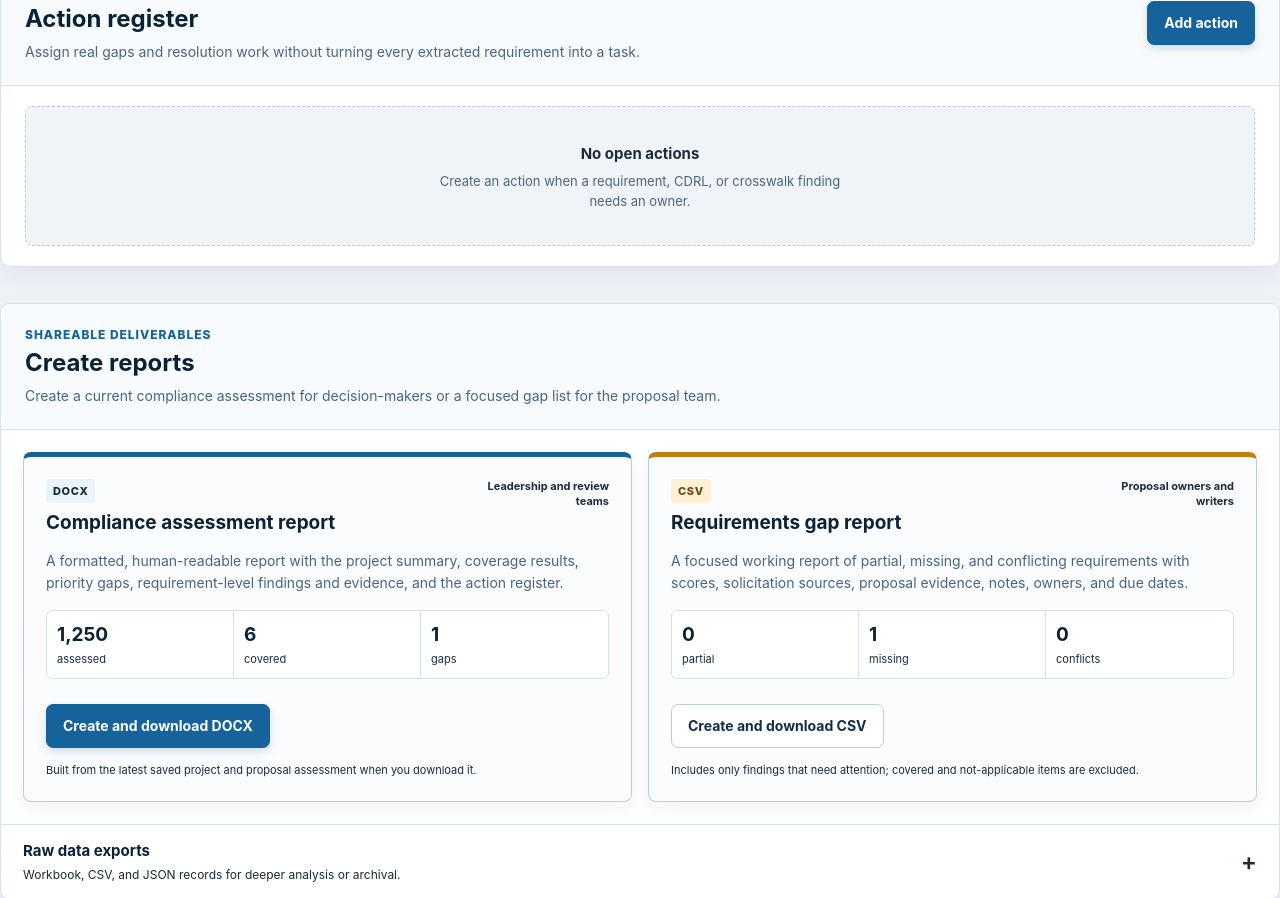
Scenario: ReportsWorkspace report creation › reports generation errors and allows a retry
The width and height of the screenshot is (1280, 898).
(page scrolled)
Step 1. Click the button "Create and download CSV" → (777, 726), box [671,704,884,748]
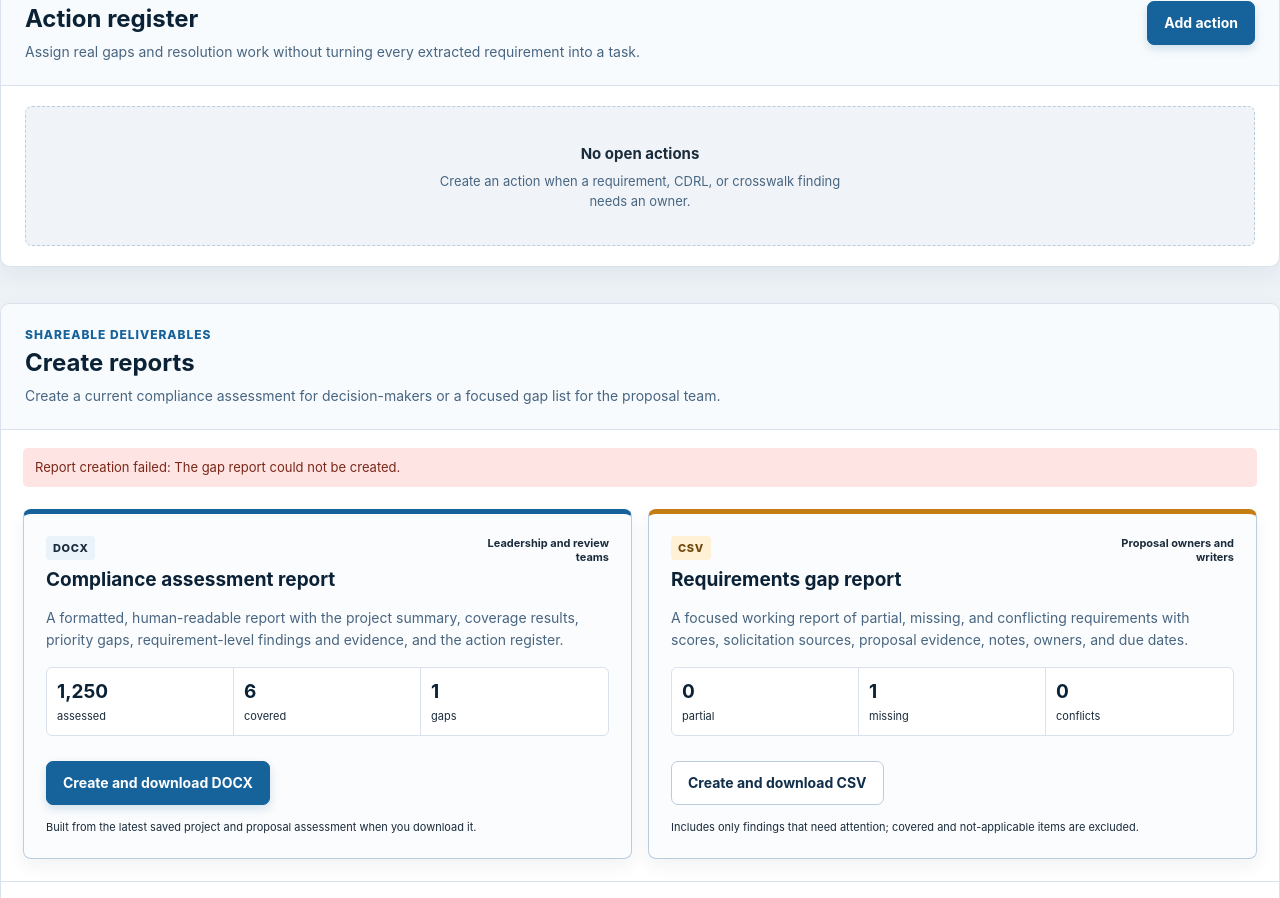
Expected: the button "Create and download CSV" is enabled, [671,761,884,805]
Expected: the message shows "Report creation failed: The gap report could not be created", [23,448,1257,487]
